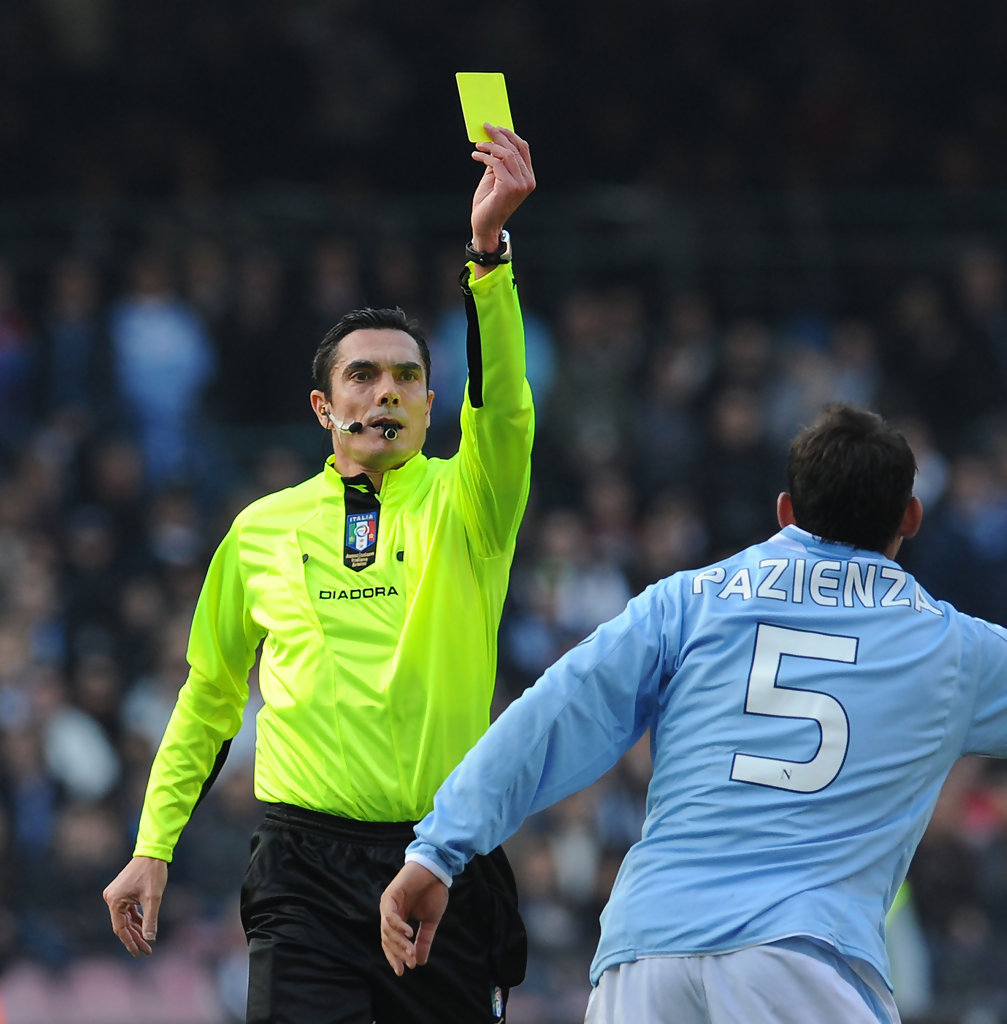yellow_card: (416, 61, 566, 283)
